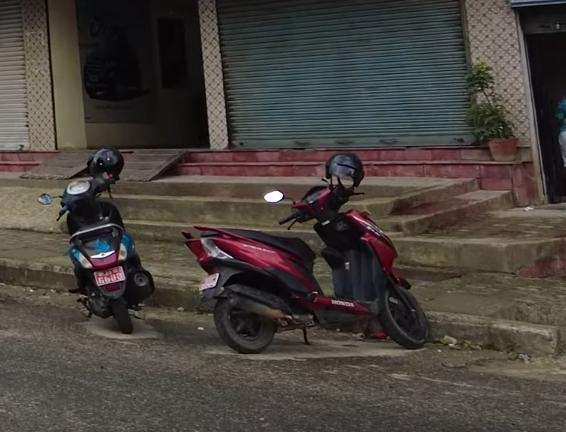scooter: (179, 182, 456, 359), (24, 169, 161, 346)
